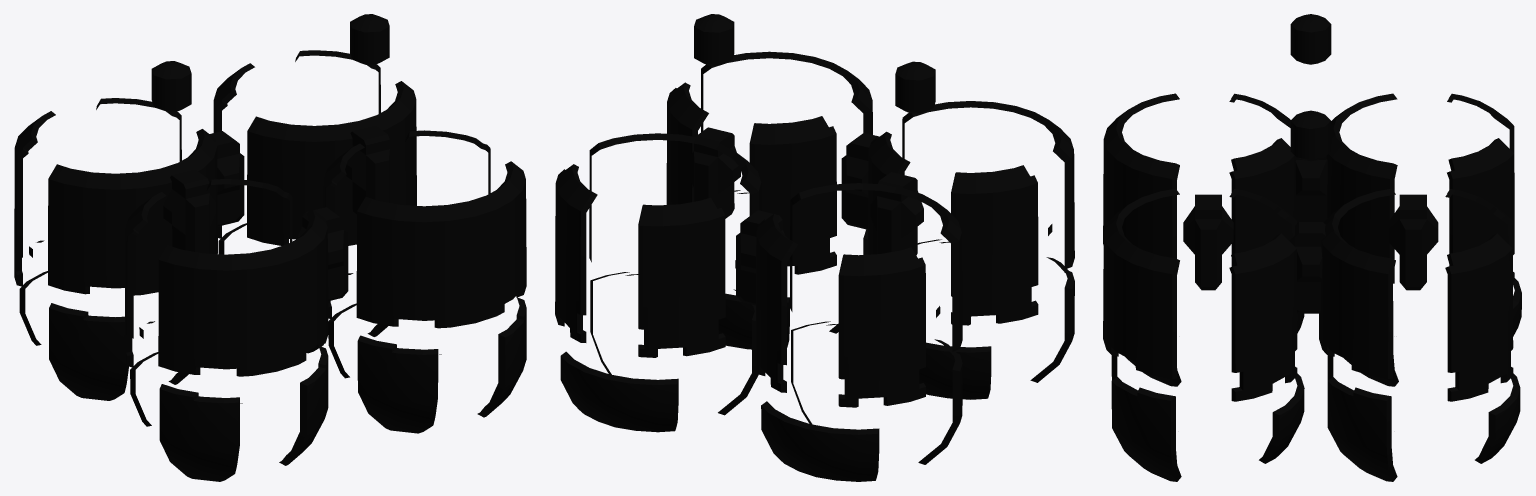
File: prop_static_tr1_container_01_12_0.glb
3 views of the same model, side by side, from view 1: azimuth 30°, elevation 25°; view 2: azimuth 150°, elevation 25°; view 3: azimuth 270°, elevation 25° (orthographic). The views are drawn at different scales.
Visible parts, largest first — view 1: tr1_container_01_12_mat01c_LOD0; view 2: tr1_container_01_12_mat01c_LOD0; view 3: tr1_container_01_12_mat01c_LOD0.
Boxes of the visible parts, x1,y1,x2,y2 form: tr1_container_01_12_mat01c_LOD0: (14,14,526,481); tr1_container_01_12_mat01c_LOD0: (555,14,1074,481); tr1_container_01_12_mat01c_LOD0: (1103,14,1521,481).
Size of what is drawn, in the model's own units: 5.7 by 5.2 by 5.75.
Materials: 1 (1 with a texture image).
